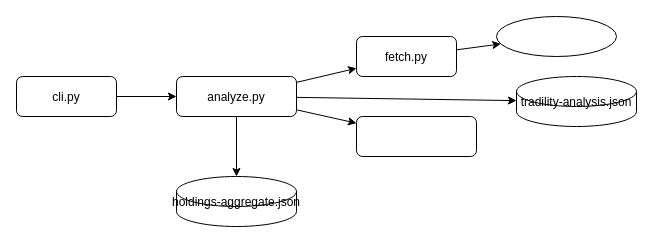
Some shapes in this 653 by 243 pixel diagram are drawn without their labels. Each missing label, with the centre of its shape:
indicators.py: [416,136]
yfinance / Yahoo: [556,36]
